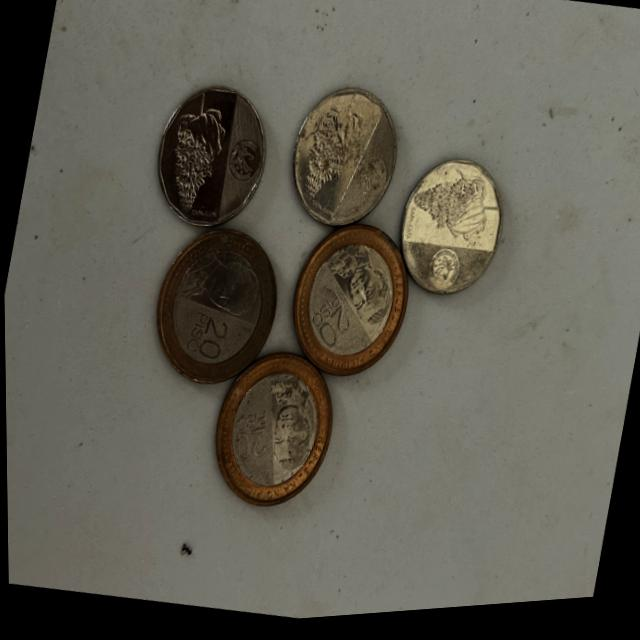10_New_Back: (145, 81, 238, 236), (394, 152, 512, 263)
20_New_Front: (293, 286, 359, 369), (170, 295, 234, 378)
